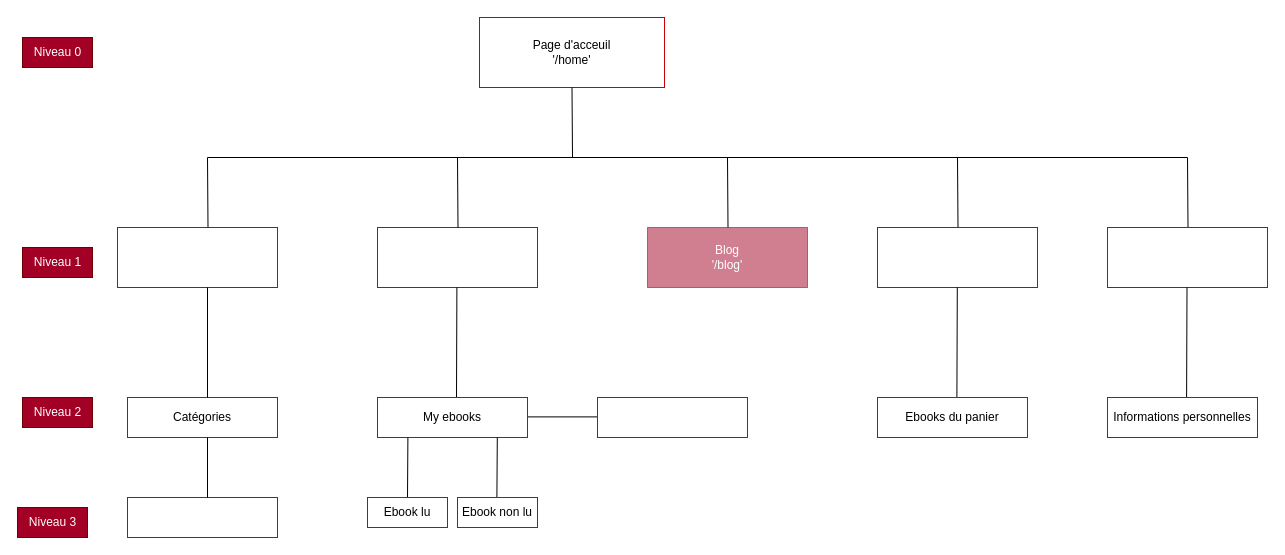
Image size: 1285x555. Some labels were removed from this diagram. The shapes that lost their labels are listed below. From the top down, each one's box as (x1, y1, x2, y2) in pixels, then its label:
(116, 226, 278, 288): Librarie '/library'
(376, 226, 538, 288): Bibliothèque '/userlibrary'
(876, 226, 1038, 288): Panier '/cart'
(1106, 226, 1268, 288): Mon Profile '/profile'
(596, 396, 748, 438): My favorites
(126, 496, 278, 538): Ebooks
